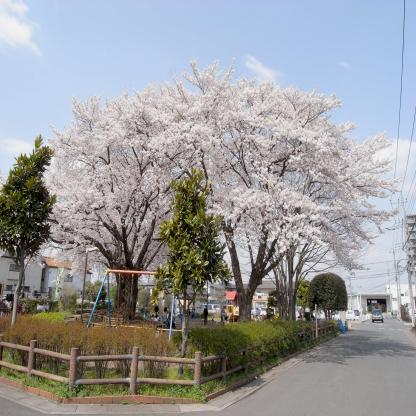Someiyoshino: (40, 52, 408, 278)
